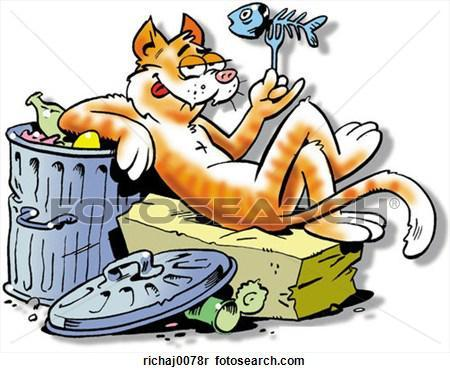bottle: (22, 89, 71, 139)
cat: (52, 12, 438, 259)
